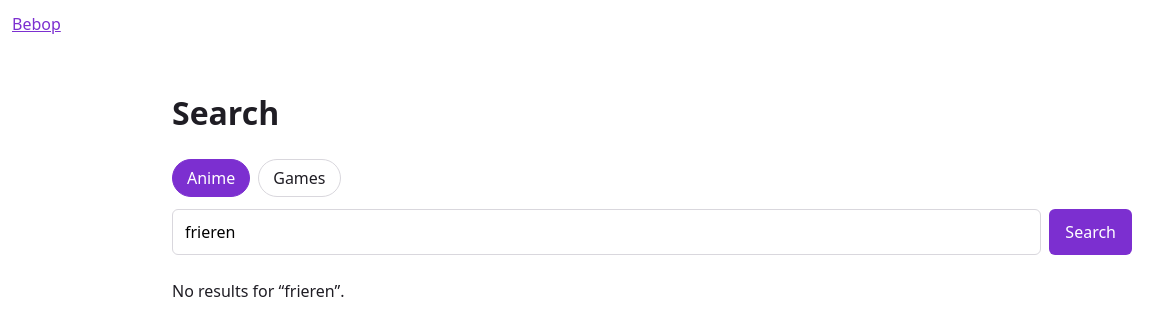
it: SearchPage › updates the search box when the URL query changes
Click the link "Bebop". click: (36, 24)
box: [12, 13, 61, 35]
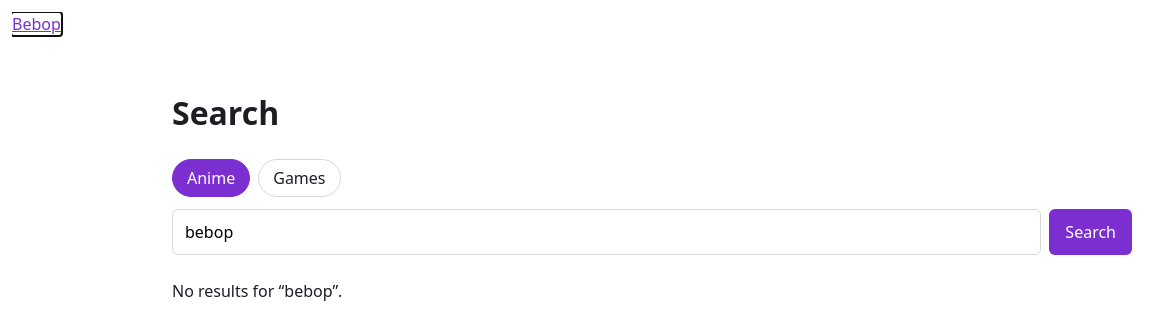
Now the search field named "Anime title" holds "bebop", box [172, 209, 1041, 255]
